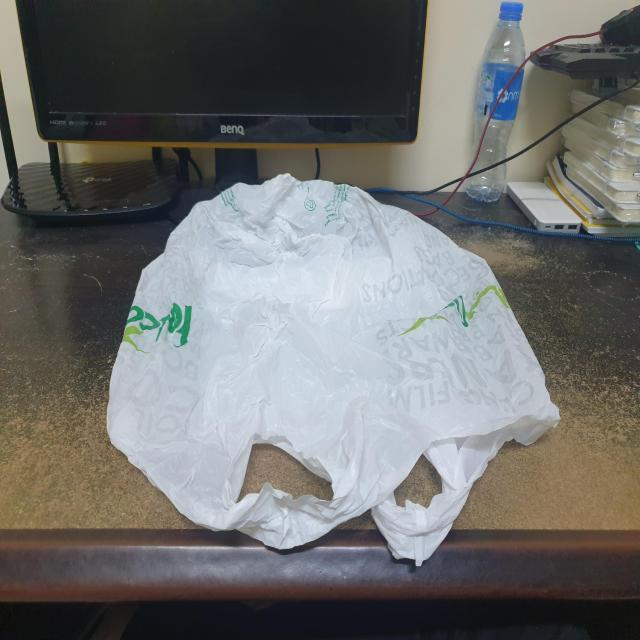plastic bag: (96, 171, 566, 567)
